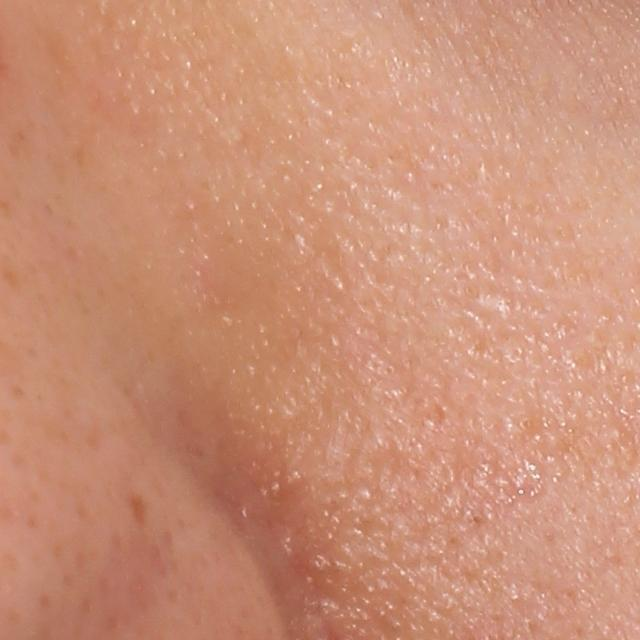comedo: (518, 412, 536, 433), (231, 127, 251, 144)
